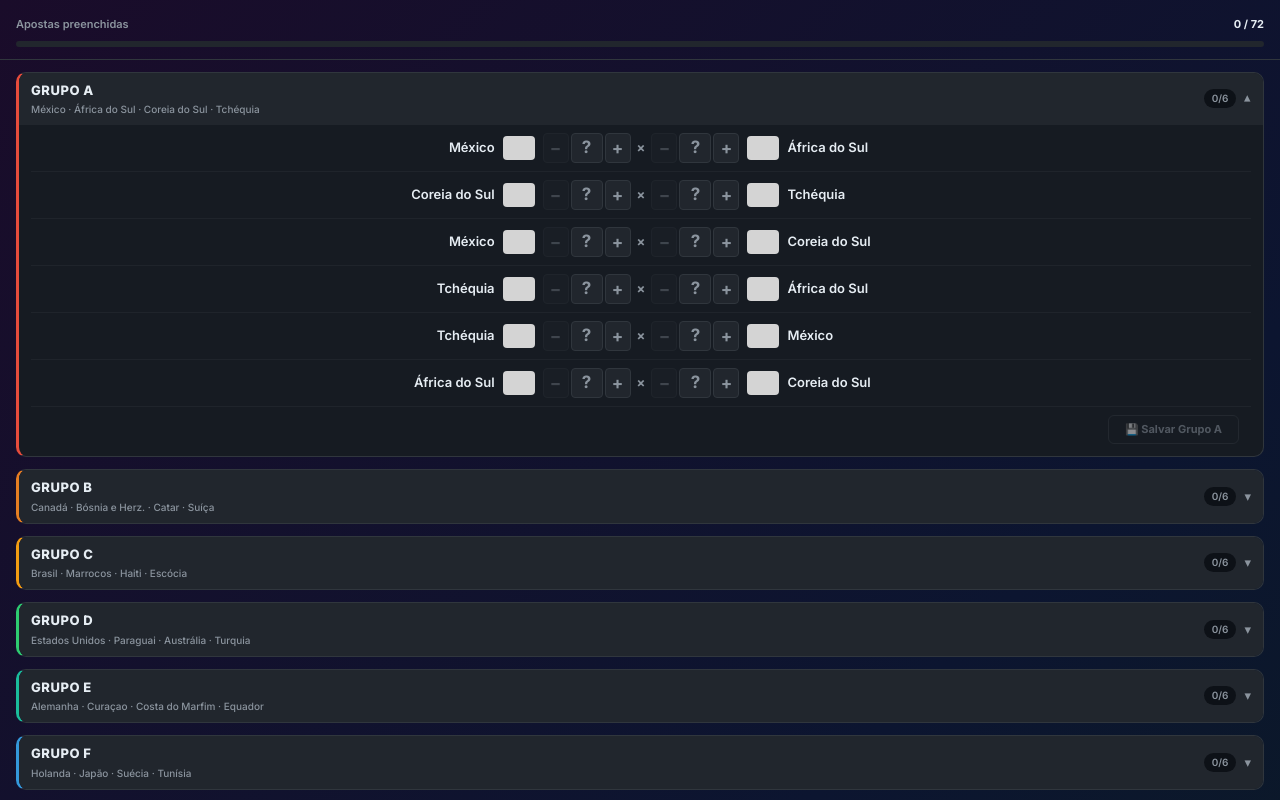
Test: BetScreen › stepper increments score — both sides needed to count as filled
Click home + and away + for the first match (indices 0 and 1)
Click the button named "Aumentar" at (618, 148), box [605,133,631,163]
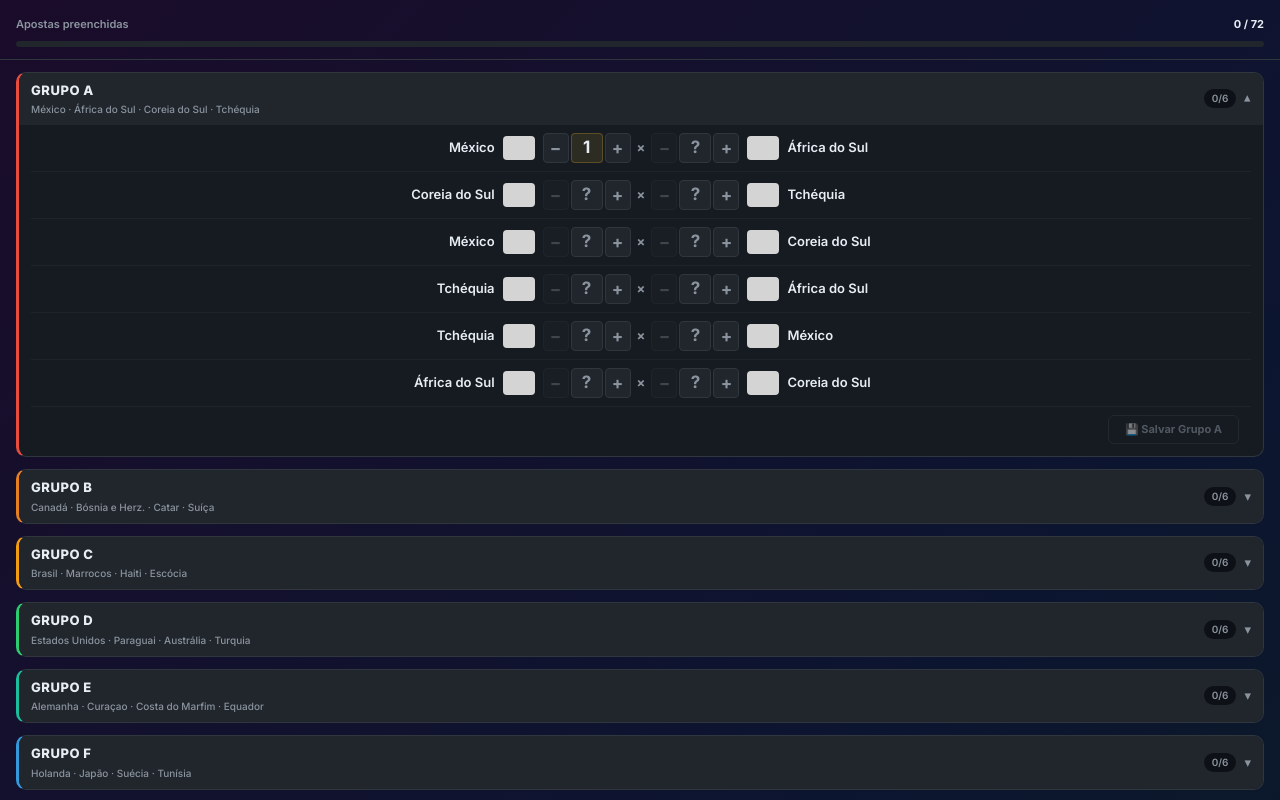
Click the button named "Aumentar" at (726, 148), box [713,133,739,163]
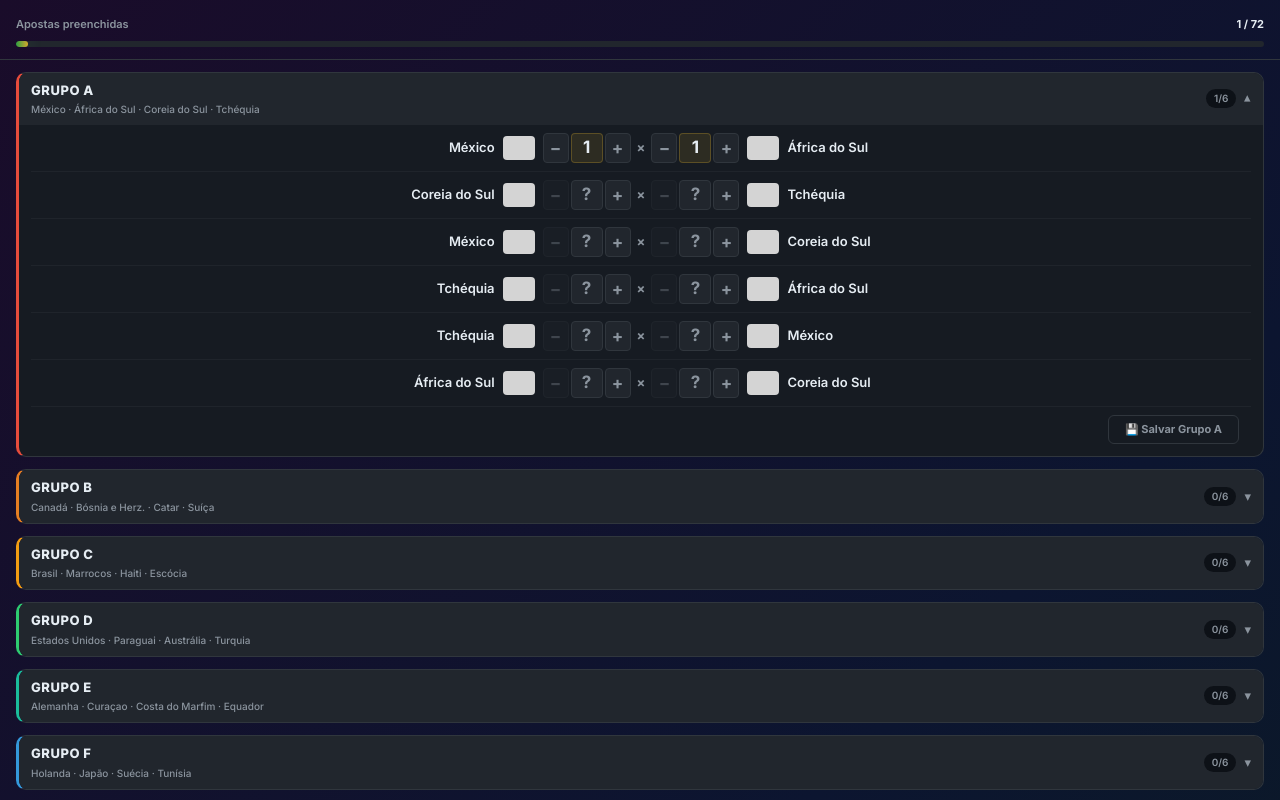
Expected: the text "1 / 72" is shown, [1236,16,1264,32]
